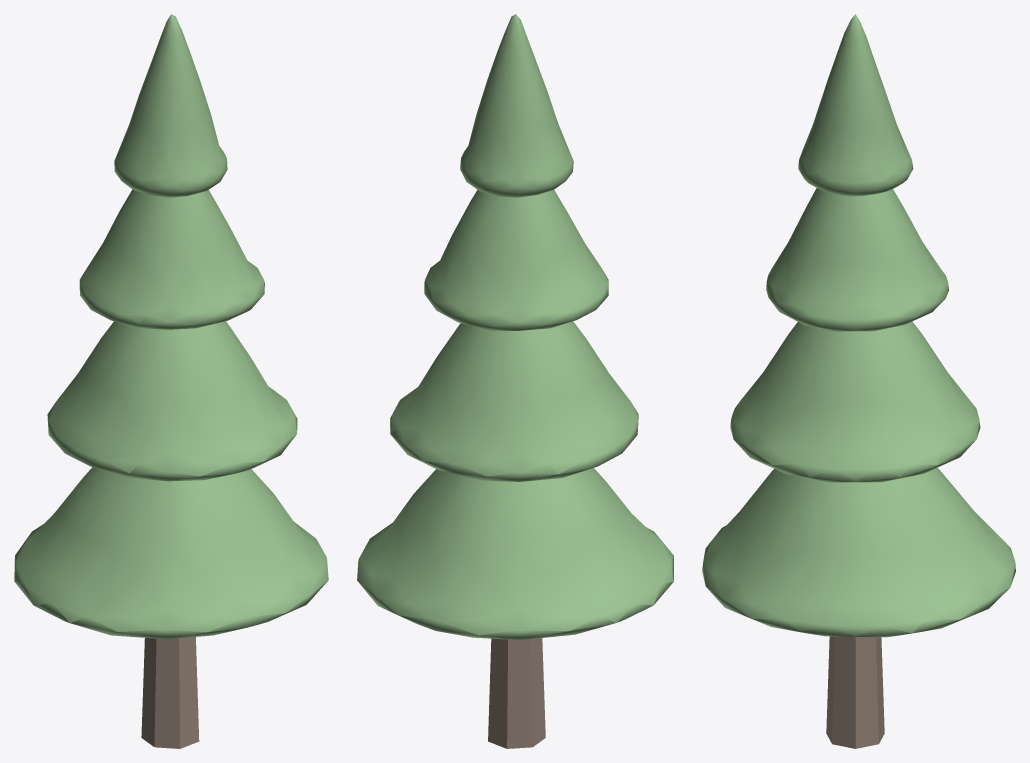
Rendered from tree-conifer-e.glb.
3 renders of one model, left to right at view 1: azimuth 30°, elevation 25°; view 2: azimuth 150°, elevation 25°; view 3: azimuth 270°, elevation 25°, orthographic.
Visible parts, largest first — view 1: tree-conifer-e; view 2: tree-conifer-e; view 3: tree-conifer-e.
Boxes of the visible parts, bbox=[...] form: tree-conifer-e: bbox=[14, 14, 328, 748]; tree-conifer-e: bbox=[357, 14, 673, 748]; tree-conifer-e: bbox=[702, 14, 1015, 748].
Bounding box in the file's own units: 0.3953 × 1 × 0.3939.
